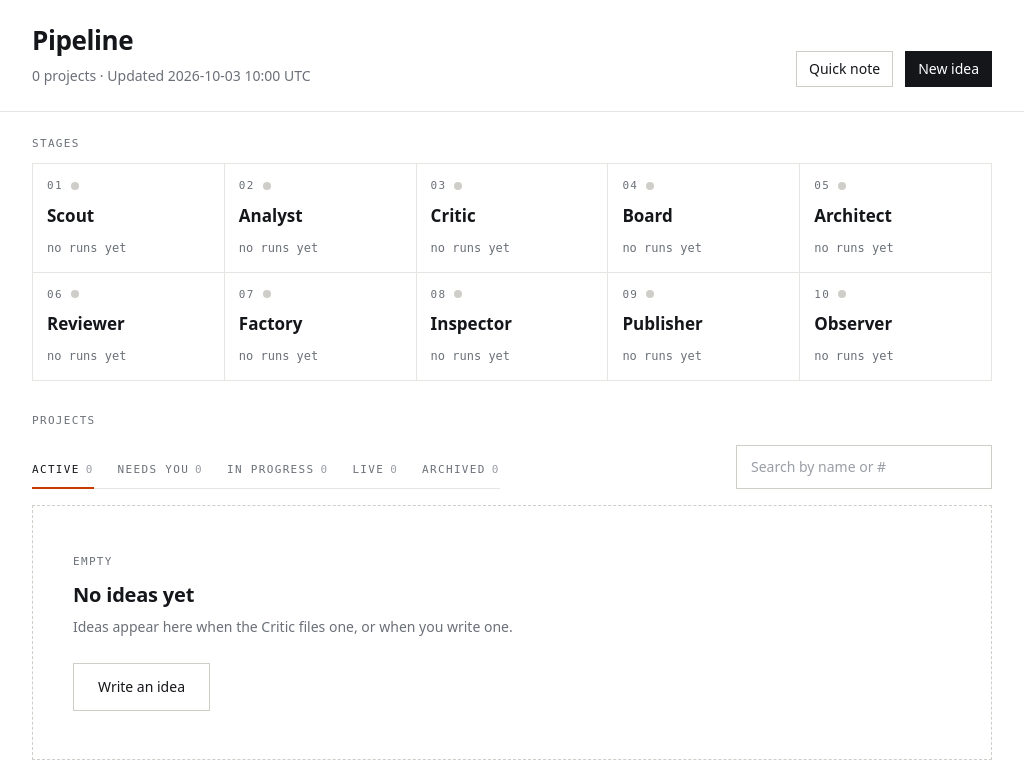
Test: Board › CH13: offers "Quick note" beside "New idea" to the owner only, and opens its drawer
Expected: the dialog "Jot it down" is not shown
Expected: the button "New idea" is shown, [905, 50, 992, 87]
Step 1. Click the button "Quick note" → (845, 69), box [796, 50, 893, 87]
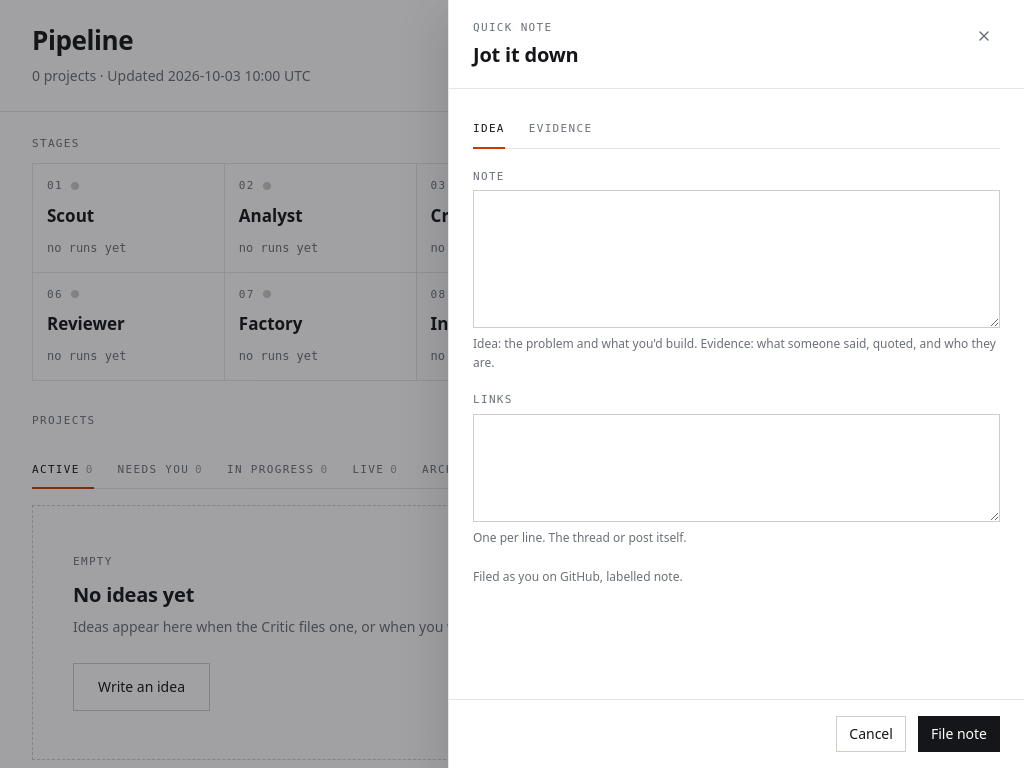
Now the dialog "Jot it down" is shown, box [448, 0, 1023, 767]
